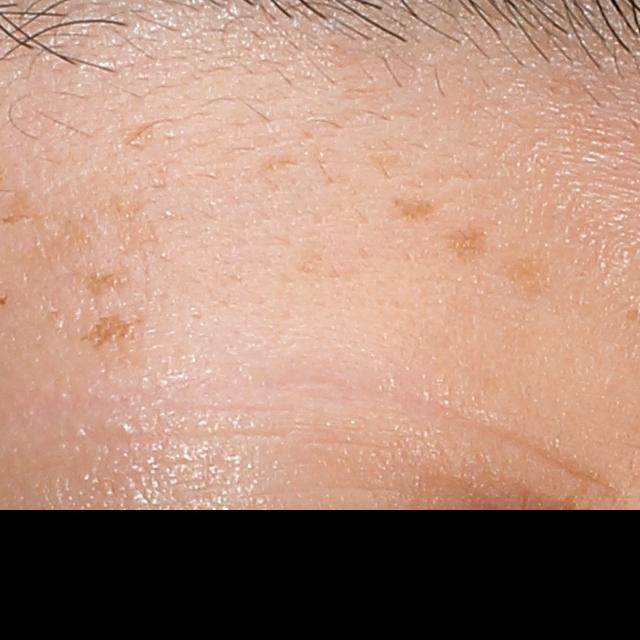melasma: (81, 318, 139, 349), (390, 192, 438, 224), (84, 265, 131, 296), (448, 228, 495, 258)
